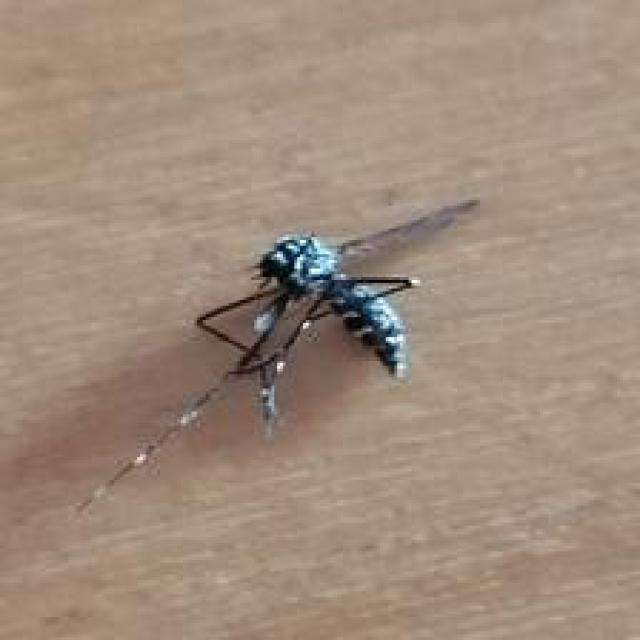Aedes albopictus: (73, 195, 481, 514)
